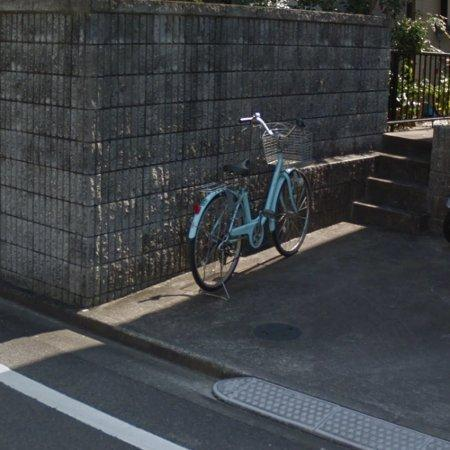bicycles: (189, 112, 313, 292)
